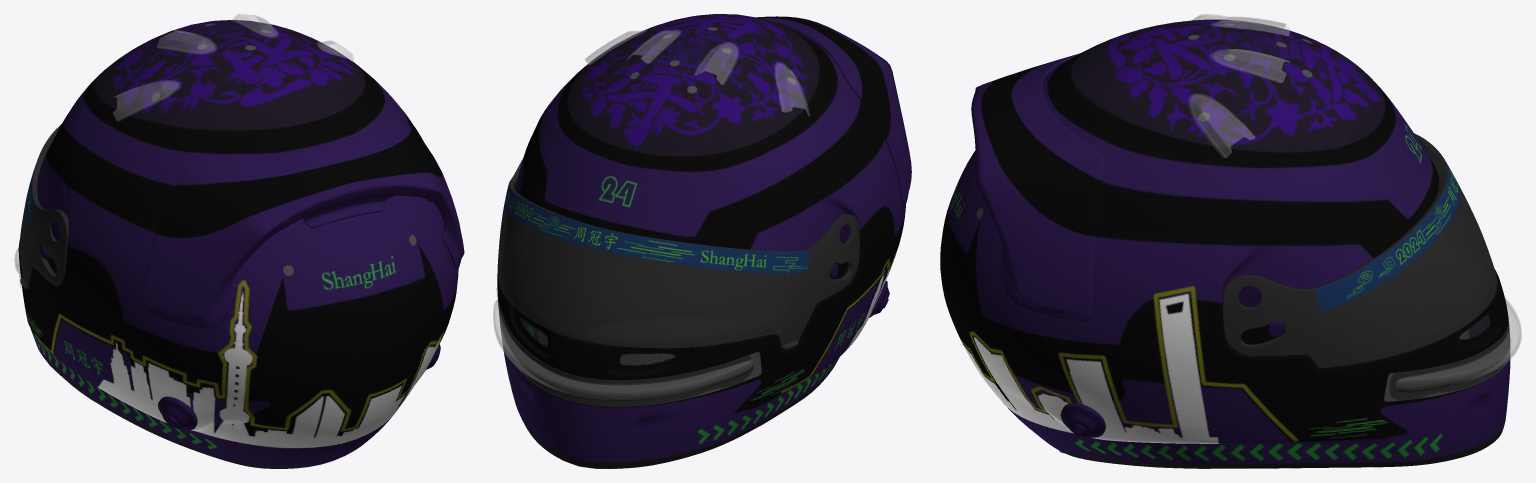
The model's file is helmet.glb.
The picture shows the model from 3 angles, left to right: view 1: azimuth 30°, elevation 25°; view 2: azimuth 150°, elevation 25°; view 3: azimuth 270°, elevation 25°; orthographic projection. The views are drawn at different scales.
Parts seen in each view (by area): view 1: Helmet_main_Helmet_main_0, Helmet_Component_Helmet_Component_0, Helmet_glass_Helmet_glass_0; view 2: Helmet_main_Helmet_main_0, Helmet_glass_Helmet_glass_0, Helmet_Component_Helmet_Component_0; view 3: Helmet_main_Helmet_main_0, Helmet_glass_Helmet_glass_0, Helmet_Component_Helmet_Component_0.
Part boxes in pixels (left/top/right/bottom): Helmet_main_Helmet_main_0: left=18, top=20, right=458, bottom=468; Helmet_Component_Helmet_Component_0: left=39, top=115, right=464, bottom=430; Helmet_glass_Helmet_glass_0: left=14, top=14, right=354, bottom=288; Helmet_main_Helmet_main_0: left=497, top=14, right=905, bottom=468; Helmet_glass_Helmet_glass_0: left=493, top=30, right=859, bottom=406; Helmet_Component_Helmet_Component_0: left=520, top=16, right=911, bottom=365; Helmet_main_Helmet_main_0: left=940, top=19, right=1510, bottom=468; Helmet_glass_Helmet_glass_0: left=1189, top=14, right=1521, bottom=401; Helmet_Component_Helmet_Component_0: left=971, top=53, right=1490, bottom=437.
Size of the model in its own units: 2.11 by 2.16 by 2.87.
Materials: 4 (4 with a texture image).
